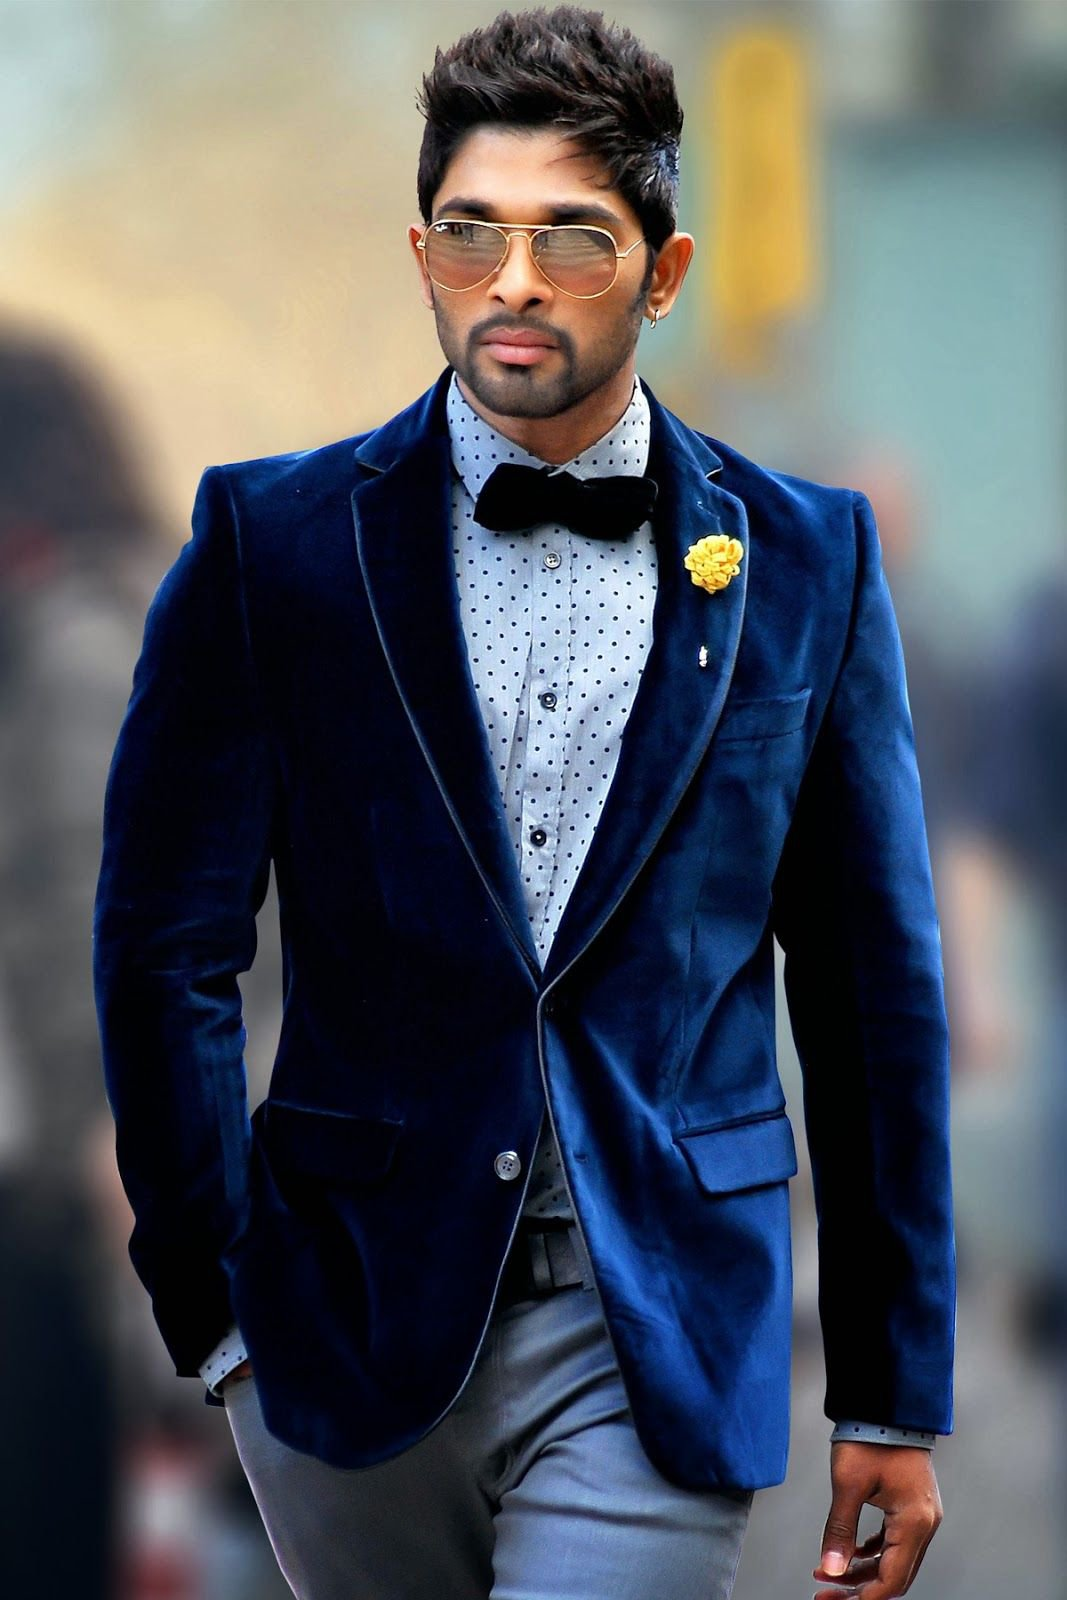noMask: (357, 15, 706, 418)
